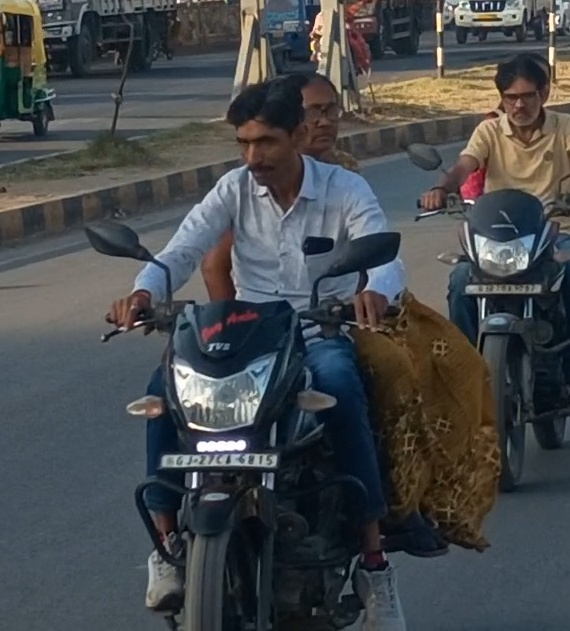BikeWithRider: (72, 64, 510, 628), (391, 48, 570, 494)
NoHelmet: (228, 74, 310, 192), (298, 74, 353, 152), (487, 59, 547, 129), (505, 51, 554, 115)
